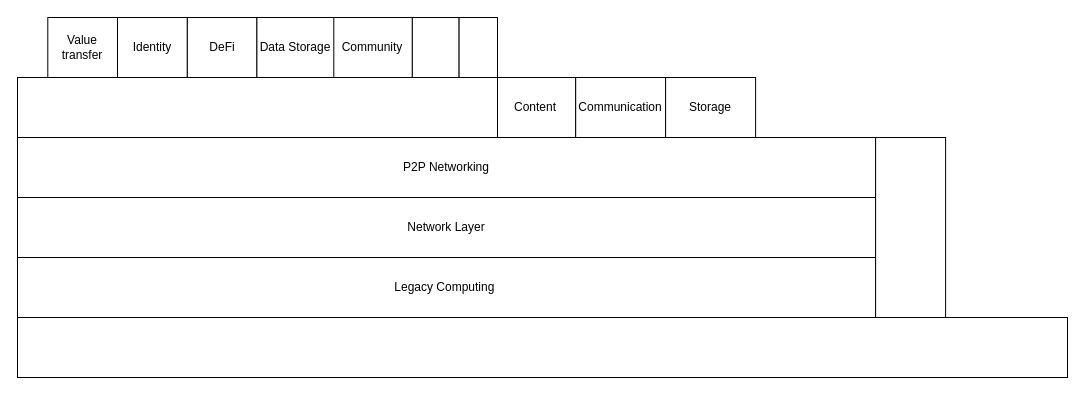
Image size: 1085x395. Some labels were removed from this diagram. The box of each missing label's shape, as (x1, y1, x2, y2) in pixels:
Art: (458, 16, 498, 78)
Blockchain Settlement: (16, 76, 498, 138)
DAOs: (411, 16, 459, 78)
Hardware layer: (16, 316, 1068, 378)
P2P Computing: (875, 136, 946, 318)
